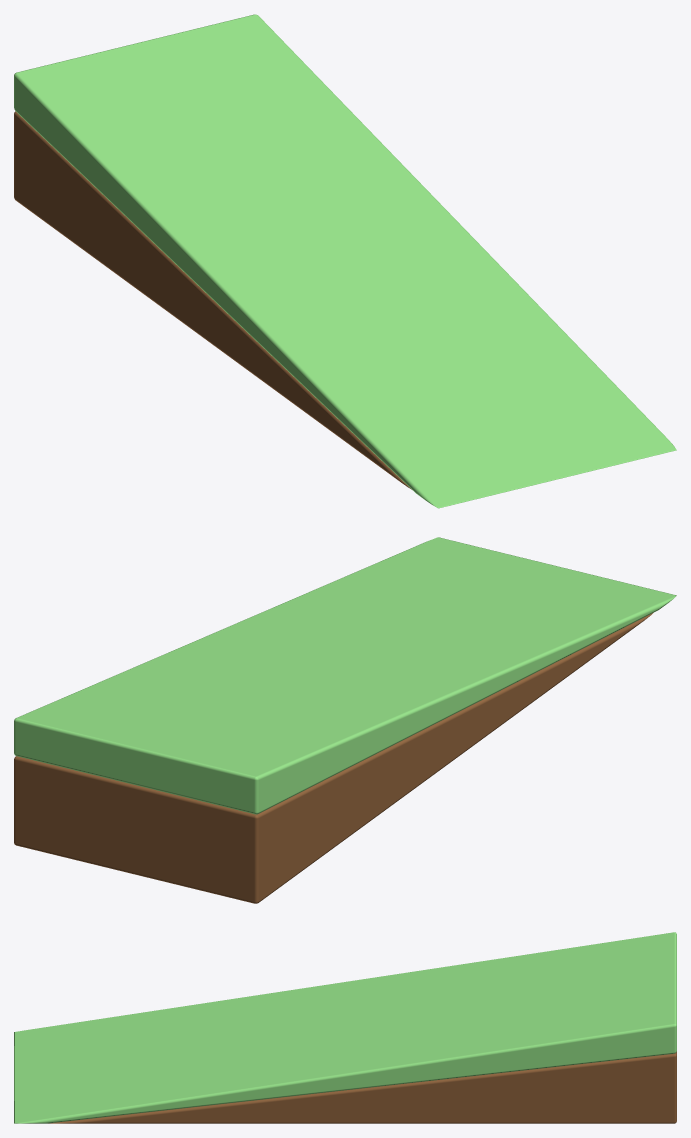
Rendered from Ramp -  Upper - 0.5x3.glb.
3 renders of one model, top to bottom at view 1: azimuth 30°, elevation 25°; view 2: azimuth 150°, elevation 25°; view 3: azimuth 270°, elevation 25°, orthographic. The views are drawn at different scales.
Visible parts, largest first — view 1: Ramp - Upper - 0.5x3; view 2: Ramp - Upper - 0.5x3; view 3: Ramp - Upper - 0.5x3.
Boxes of the visible parts, <box> form: Ramp - Upper - 0.5x3: <box>14,14,676,508</box>; Ramp - Upper - 0.5x3: <box>14,537,676,903</box>; Ramp - Upper - 0.5x3: <box>14,932,676,1123</box>.
Size of the model in its own units: 2 by 0.9959 by 5.99.
